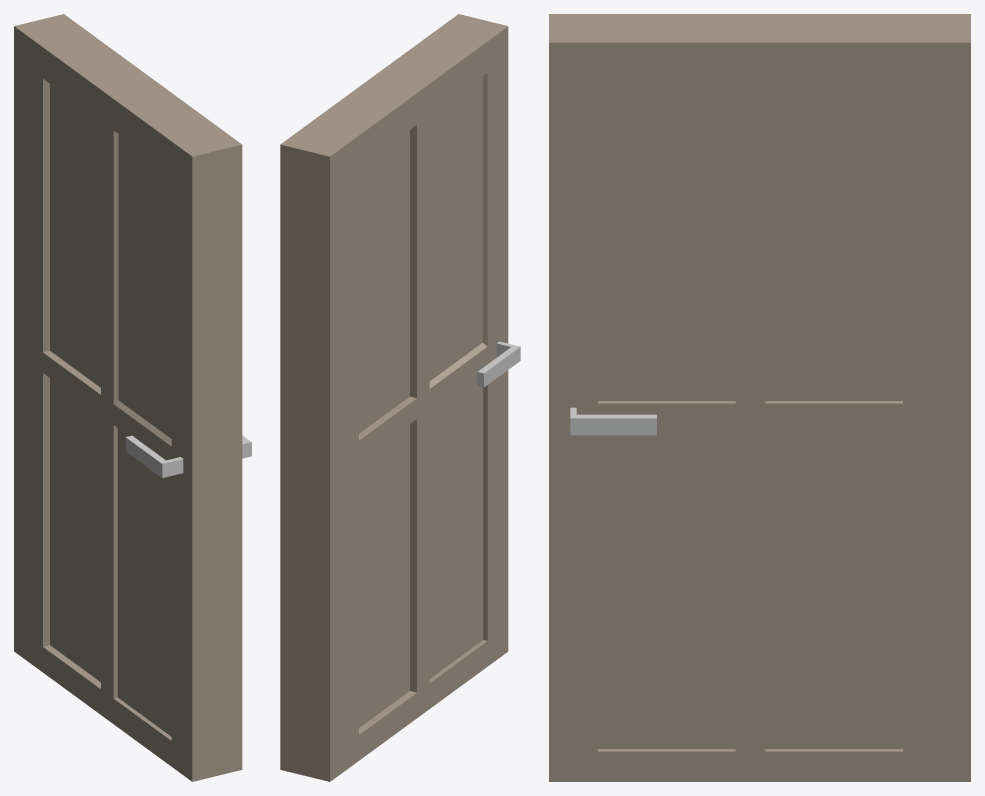
The model's file is Door.fbx.
The picture shows the model from 3 angles, left to right: view 1: azimuth 30°, elevation 25°; view 2: azimuth 150°, elevation 25°; view 3: azimuth 270°, elevation 25°; orthographic projection. The views are drawn at different scales.
Visible parts, largest first — view 1: Cube.017, UpperDrawer.004; view 2: Cube.017, UpperDrawer.004; view 3: Cube.017, UpperDrawer.002.
Part boxes in pixels (x1,y1,x2,y2): Cube.017: (14, 14, 242, 781); UpperDrawer.004: (125, 435, 183, 478); Cube.017: (280, 14, 508, 781); UpperDrawer.004: (477, 341, 520, 387); Cube.017: (549, 14, 970, 781); UpperDrawer.002: (570, 407, 656, 435).
Size of the model in its own units: 88.98 by 593 by 307.
